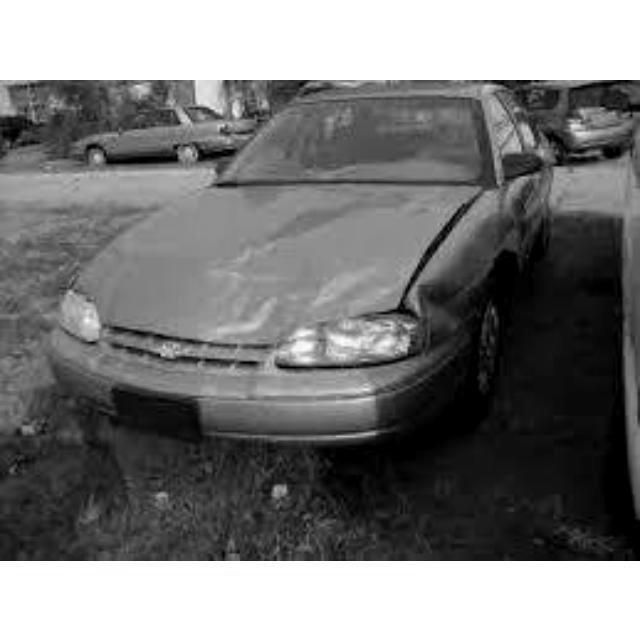bonnet-dent: (169, 178, 408, 318)
fender-dent: (445, 201, 519, 299)
